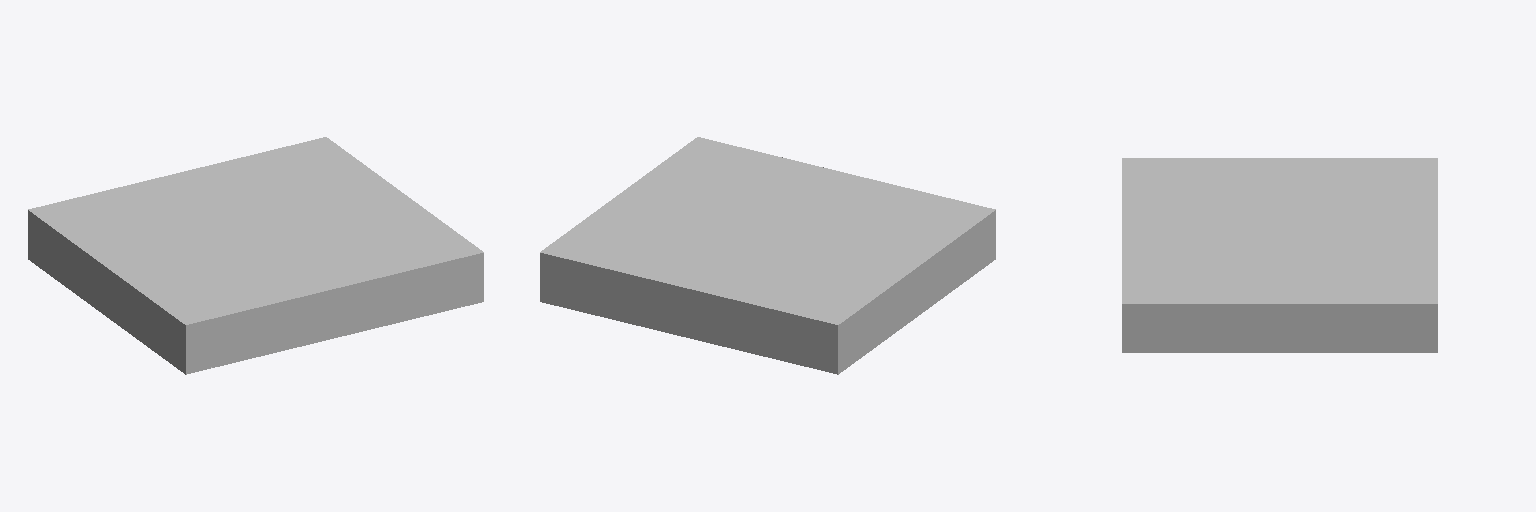
Rendered from room1.obj.
3 views of the same model, side by side, from view 1: azimuth 30°, elevation 25°; view 2: azimuth 150°, elevation 25°; view 3: azimuth 270°, elevation 25° (orthographic).
Visible parts, largest first — view 1: Mesh135 Model; view 2: Mesh135 Model; view 3: Mesh135 Model.
Boxes of the visible parts, x1,y1,x2,y2 form: Mesh135 Model: [28, 137, 483, 374]; Mesh135 Model: [540, 137, 995, 374]; Mesh135 Model: [1122, 158, 1437, 352].
Size of the model in its own units: 26137 by 4173 by 23946.